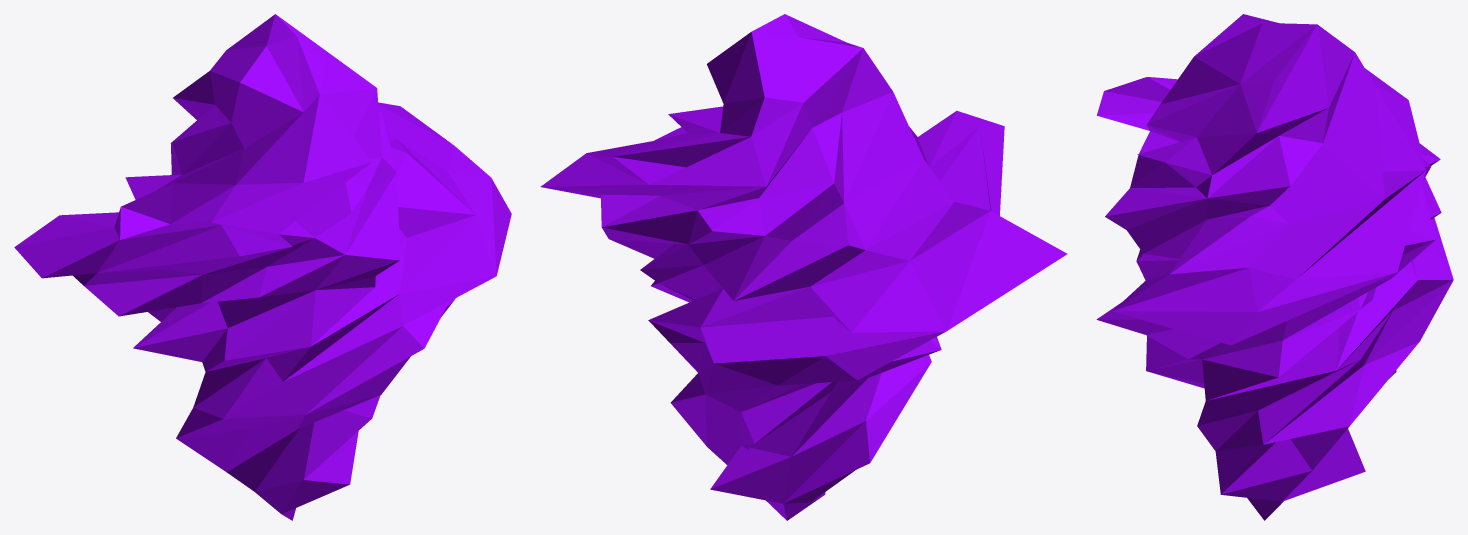
File: Crystal_039.fbx
The picture shows the model from 3 angles, left to right: view 1: azimuth 30°, elevation 25°; view 2: azimuth 150°, elevation 25°; view 3: azimuth 270°, elevation 25°; orthographic projection. The views are drawn at different scales.
Visible parts, largest first — view 1: Crystal.039; view 2: Crystal.039; view 3: Crystal.039.
Boxes of the visible parts, left/top/right/bottom form: Crystal.039: left=14, top=14, right=511, bottom=520; Crystal.039: left=540, top=14, right=1067, bottom=520; Crystal.039: left=1096, top=14, right=1453, bottom=520.
Bounding box in the file's own units: 441 × 443 × 287.
